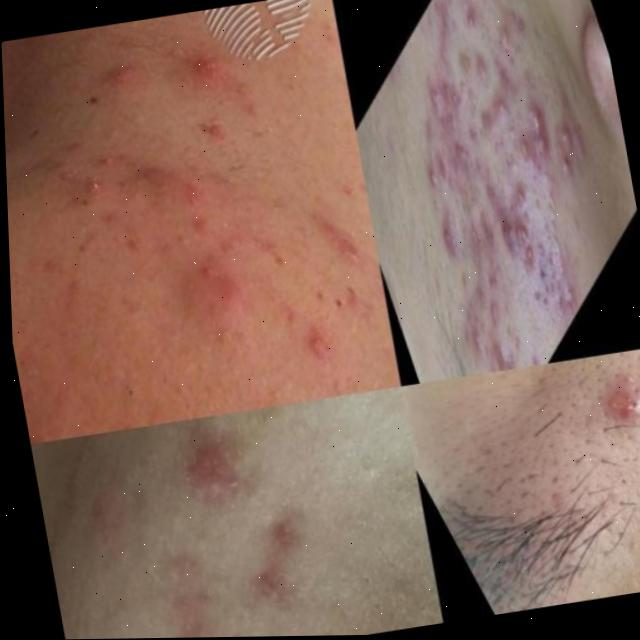Acne: (409, 21, 640, 353), (87, 90, 318, 349), (134, 427, 325, 638), (580, 373, 640, 440)
